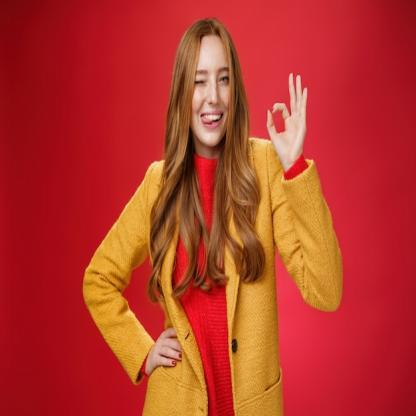ok: (262, 68, 310, 170)
